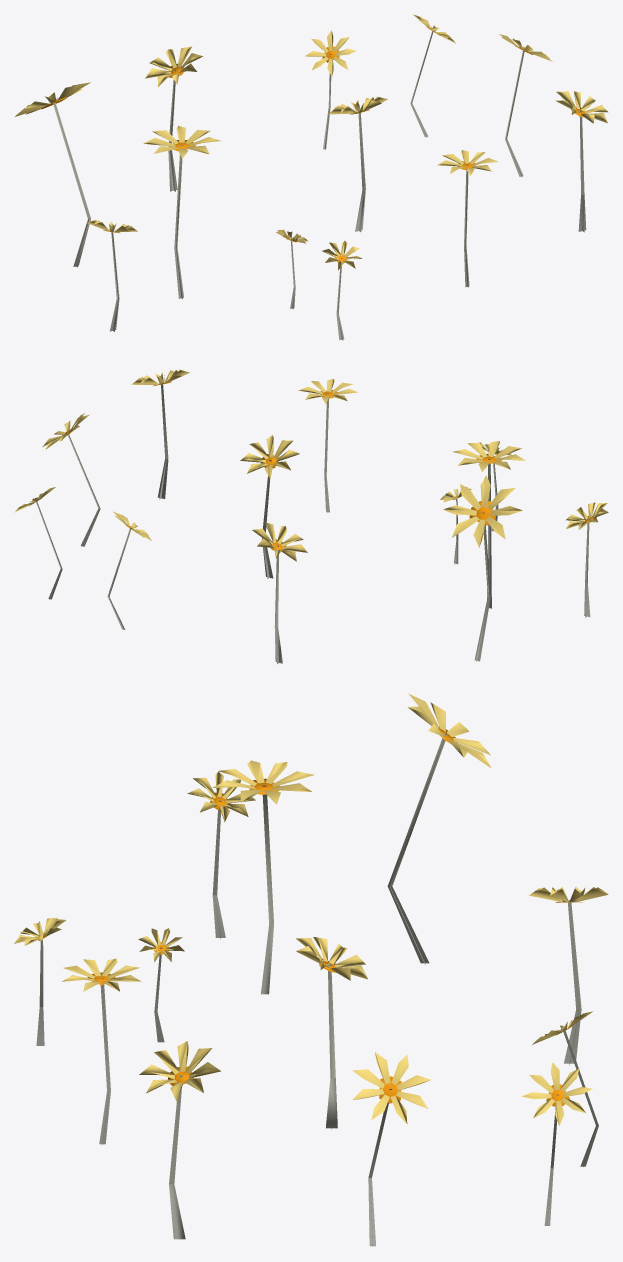
Rendered from flower_daisy_yellow_low.glb.
3 views of the same model, one above another, from view 1: azimuth 30°, elevation 25°; view 2: azimuth 150°, elevation 25°; view 3: azimuth 270°, elevation 25° (orthographic). The views are drawn at different scales.
Parts seen in each view (by area): view 1: Flower 4_4_A; view 2: Flower 4_4_A; view 3: Flower 4_4_A.
Part boxes in pixels (x1,y1,x2,y2): Flower 4_4_A: [15, 14, 608, 340]; Flower 4_4_A: [14, 369, 608, 664]; Flower 4_4_A: [14, 693, 608, 1246].
Size of the model in its own units: 0.6073 by 0.2104 by 0.4454.
1 material, 1 textured.
